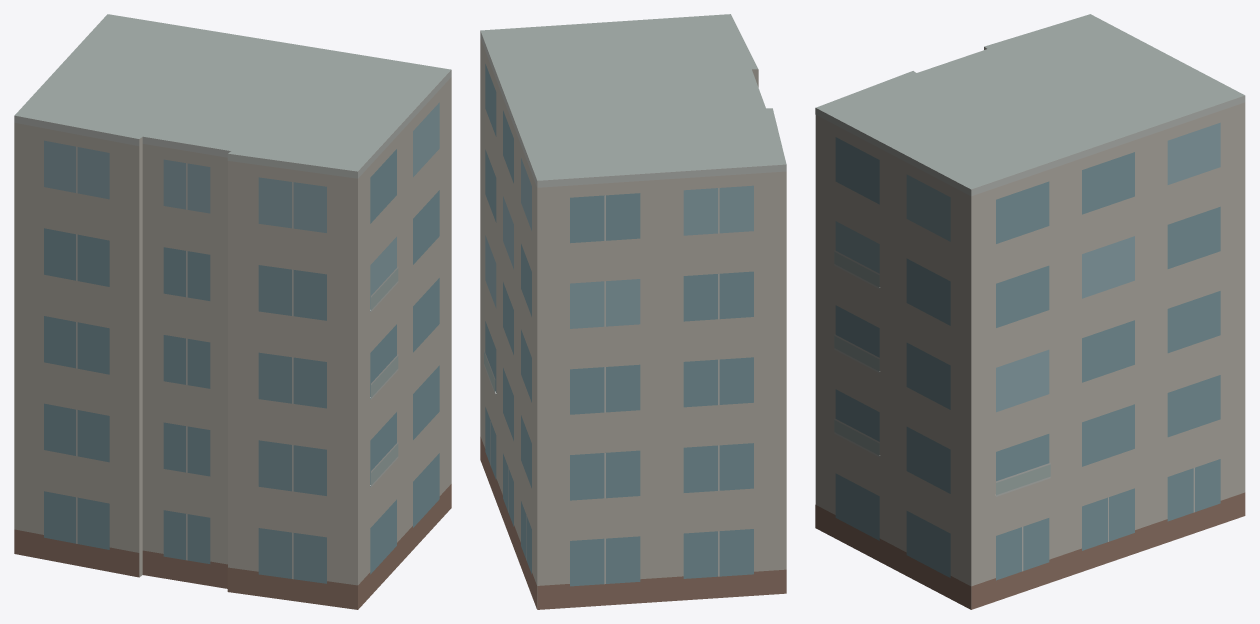
The model's file is survey-upis-32682386.glb.
The picture shows the model from 3 angles, left to right: view 1: azimuth 30°, elevation 25°; view 2: azimuth 150°, elevation 25°; view 3: azimuth 270°, elevation 25°; orthographic projection. The views are drawn at different scales.
Parts seen in each view (by area): view 1: survey-upis-32682386.tmp; view 2: survey-upis-32682386.tmp; view 3: survey-upis-32682386.tmp.
Part boxes in pixels (<box>): survey-upis-32682386.tmp: <box>14,14,451,609</box>; survey-upis-32682386.tmp: <box>480,14,786,609</box>; survey-upis-32682386.tmp: <box>815,14,1245,609</box>.
Size of the model in its own units: 13.44 by 15 by 13.91.
